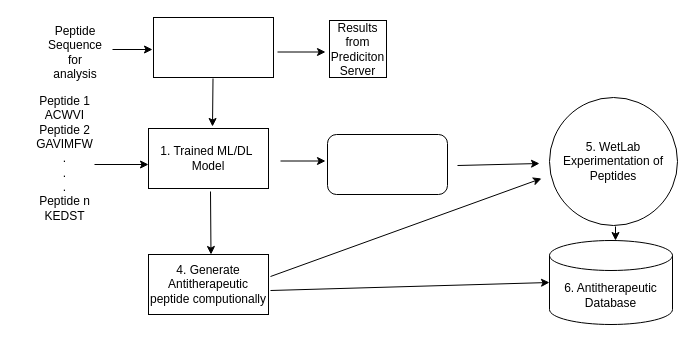
Image size: 695x342. Some labels were removed from this diagram. Each missing label, with the centre of its shape:
2. Classified Peptides with different functionality: point (387, 164)
3. Therpeutic Peptide Server: point (213, 47)
